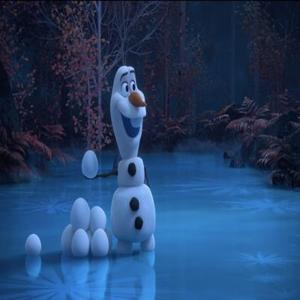olaf: (103, 62, 165, 252)
